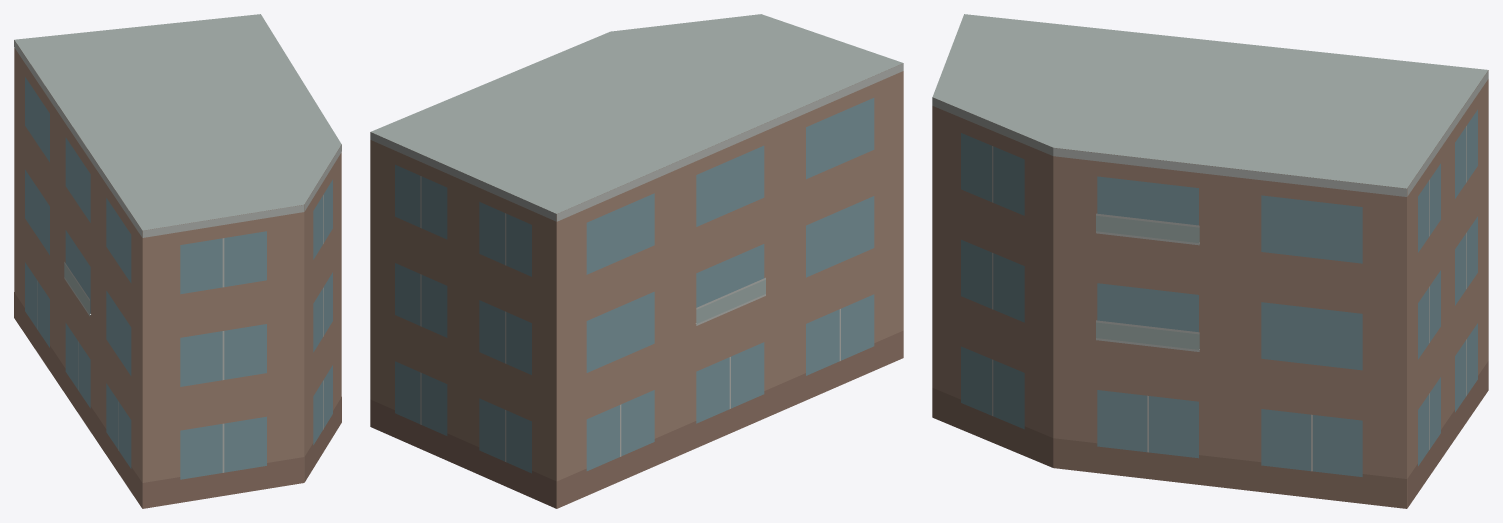
The model's file is survey-upis-32678448.glb.
3 views of the same model, side by side, from view 1: azimuth 30°, elevation 25°; view 2: azimuth 150°, elevation 25°; view 3: azimuth 270°, elevation 25° (orthographic). The views are drawn at different scales.
Visible parts, largest first — view 1: survey-upis-32678448.tmp; view 2: survey-upis-32678448.tmp; view 3: survey-upis-32678448.tmp.
Boxes of the visible parts, x1,y1,x2,y2 form: survey-upis-32678448.tmp: [14, 14, 341, 508]; survey-upis-32678448.tmp: [370, 14, 903, 508]; survey-upis-32678448.tmp: [932, 14, 1488, 508].
Bounding box in the file's own units: 10.7 × 9.15 × 14.41.
